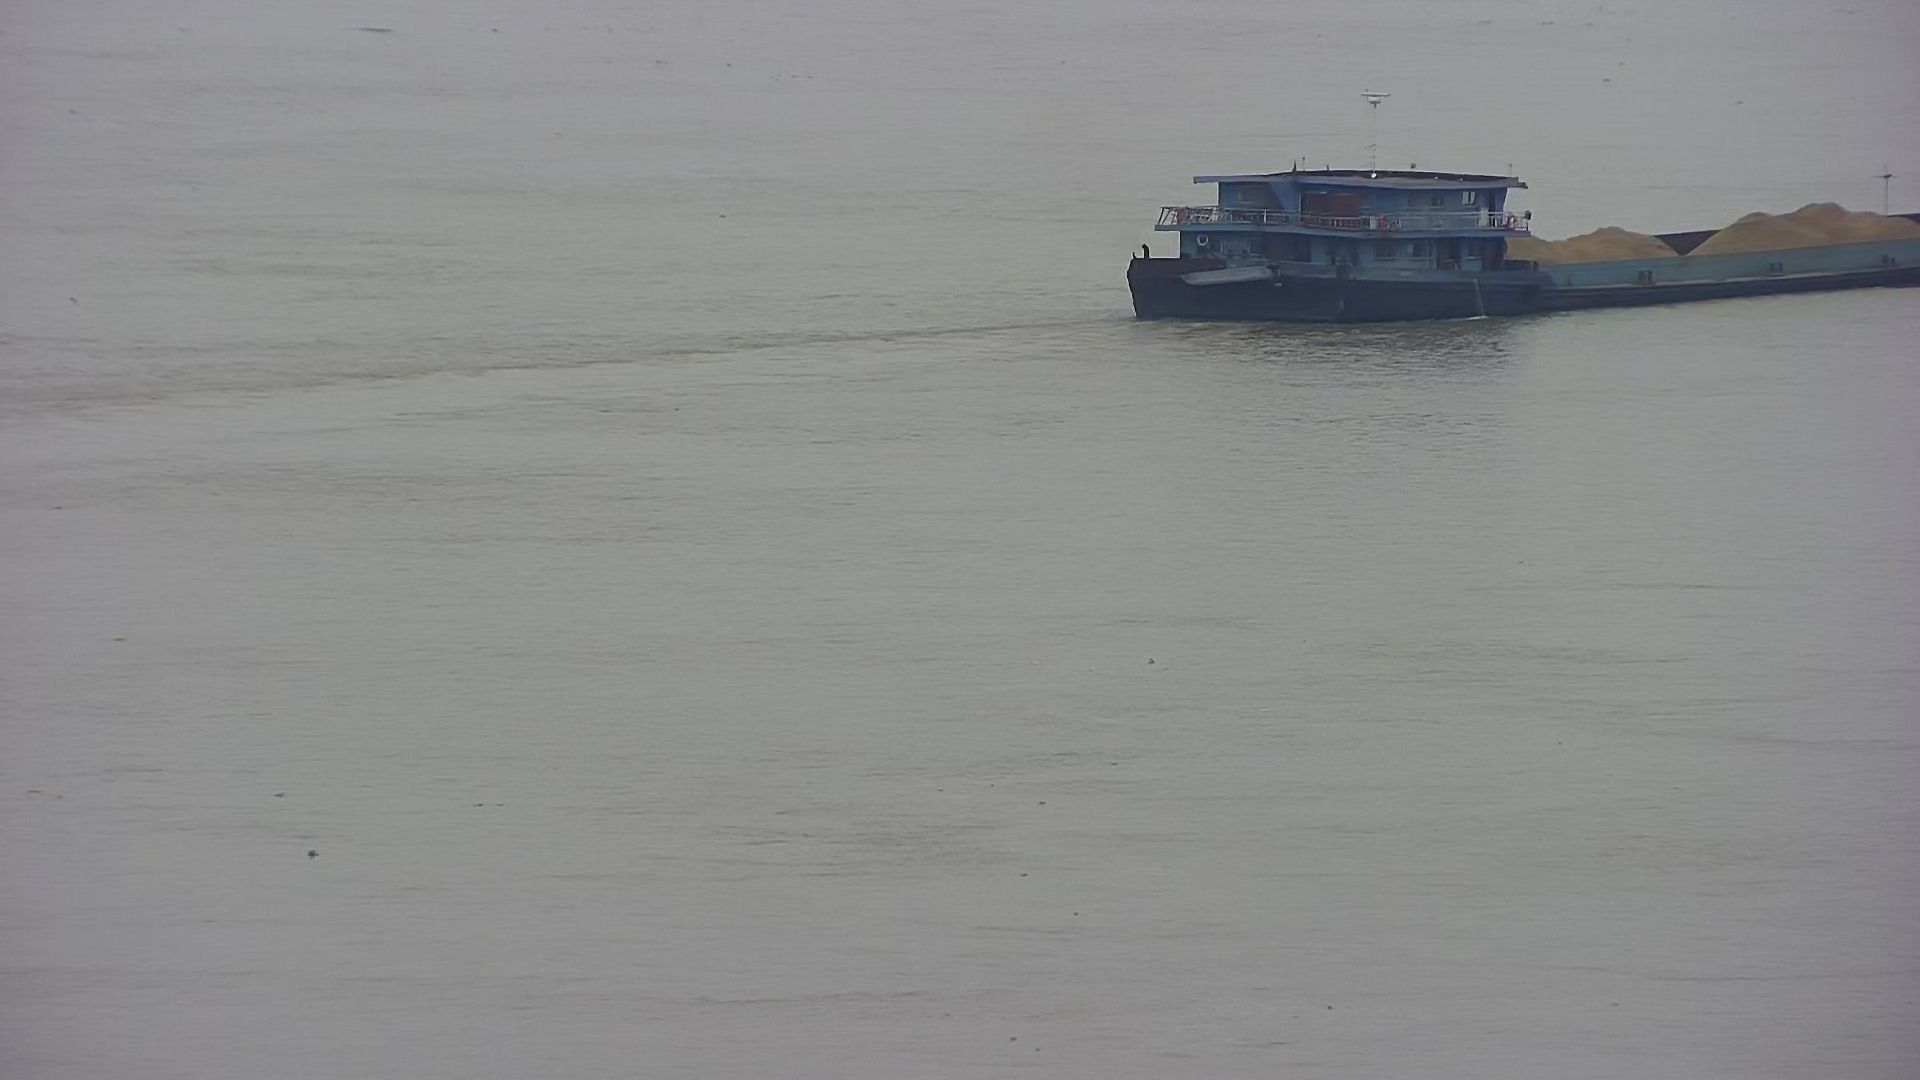ship: (1112, 149, 1920, 343)
